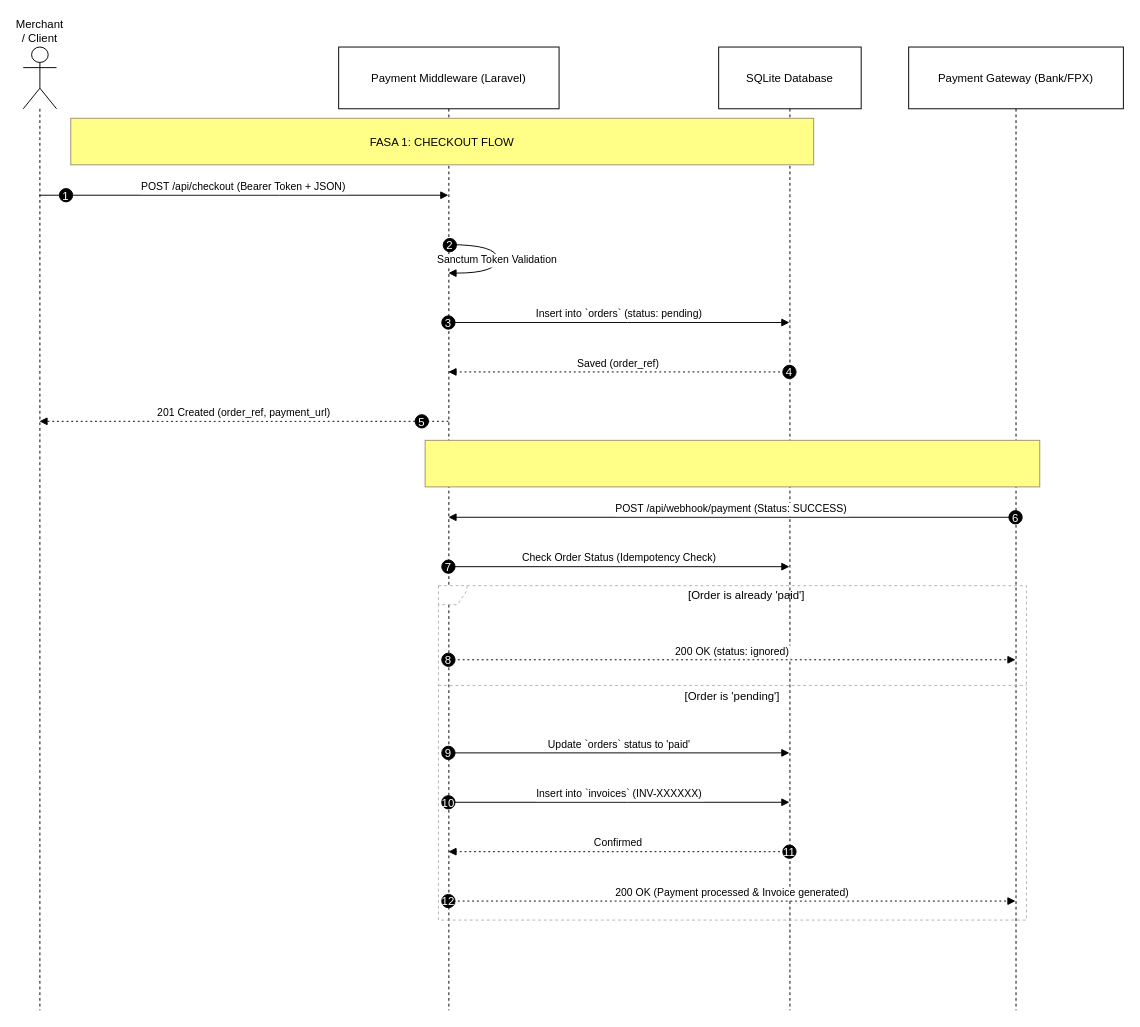
Image size: 1140x1027. Some labels were removed from this diagram. The box of each missing label's shape, as (x1, y1, x2, y2) in pixels:
alt: (437, 585, 1026, 920)
FASA 2: WEBHOOK & SETTLEMENT: (424, 439, 1040, 487)
